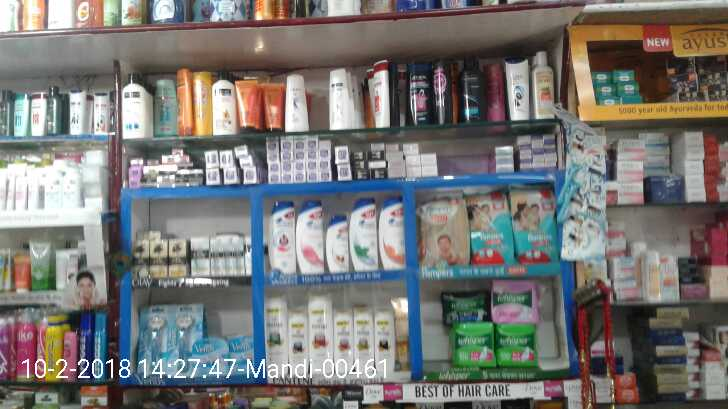venus: (551, 122, 601, 258), (140, 301, 169, 369), (169, 300, 193, 377), (193, 336, 226, 377), (226, 335, 253, 373)
